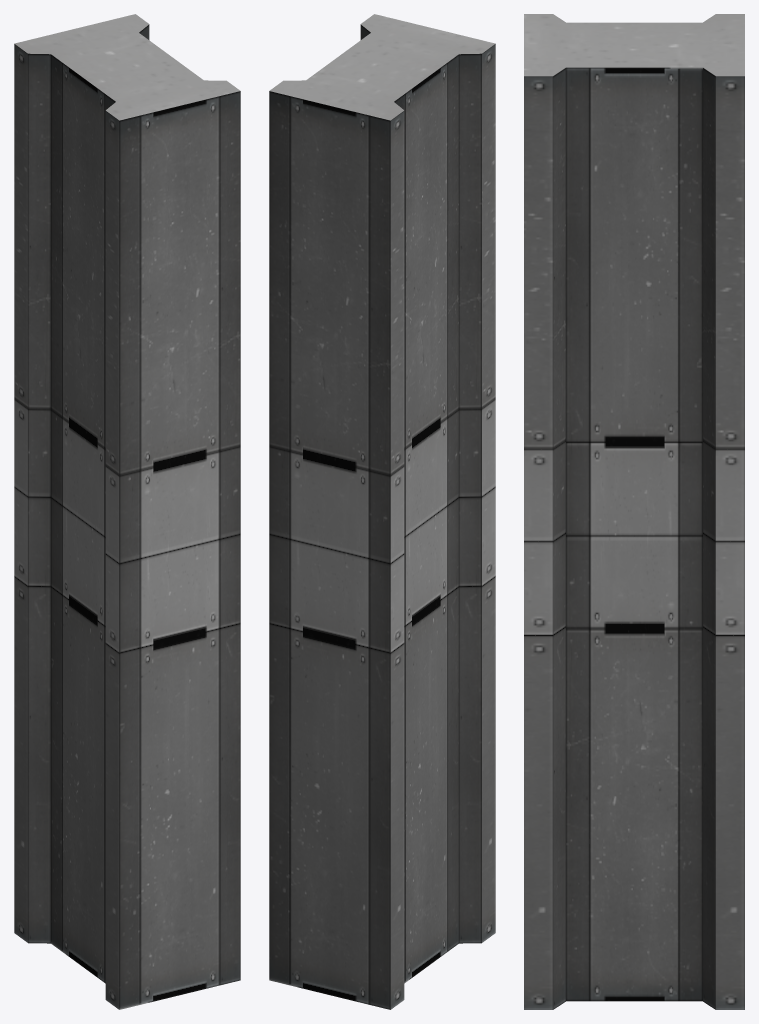
Rendered from Pylon_Vert_02.FBX.
3 renders of one model, left to right at view 1: azimuth 30°, elevation 25°; view 2: azimuth 150°, elevation 25°; view 3: azimuth 270°, elevation 25°, orthographic. The views are drawn at different scales.
Parts seen in each view (by area): view 1: Pylon_Vert_02; view 2: Pylon_Vert_02; view 3: Pylon_Vert_02.
Boxes of the visible parts, box(x1,y1,x2,y2) form: Pylon_Vert_02: box(14, 14, 240, 1009); Pylon_Vert_02: box(269, 14, 495, 1009); Pylon_Vert_02: box(524, 14, 744, 1009).
Size of the model in its own units: 20 by 140 by 30.03.
